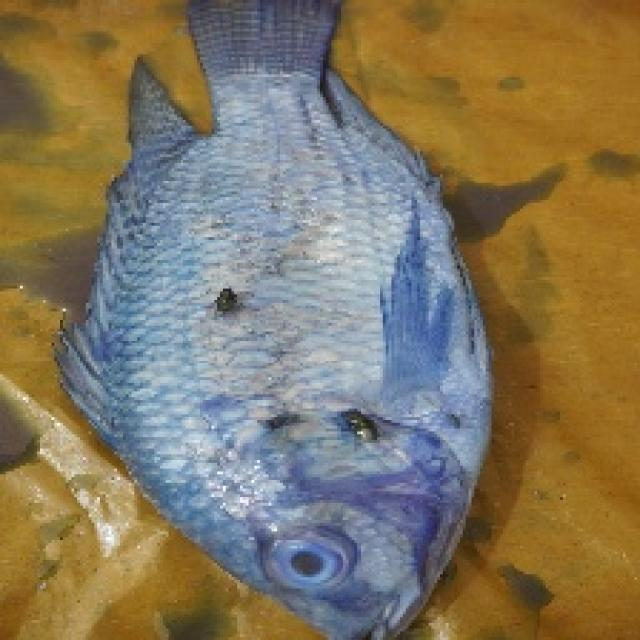Non-Fresh: (111, 163, 508, 640), (260, 524, 357, 607)
